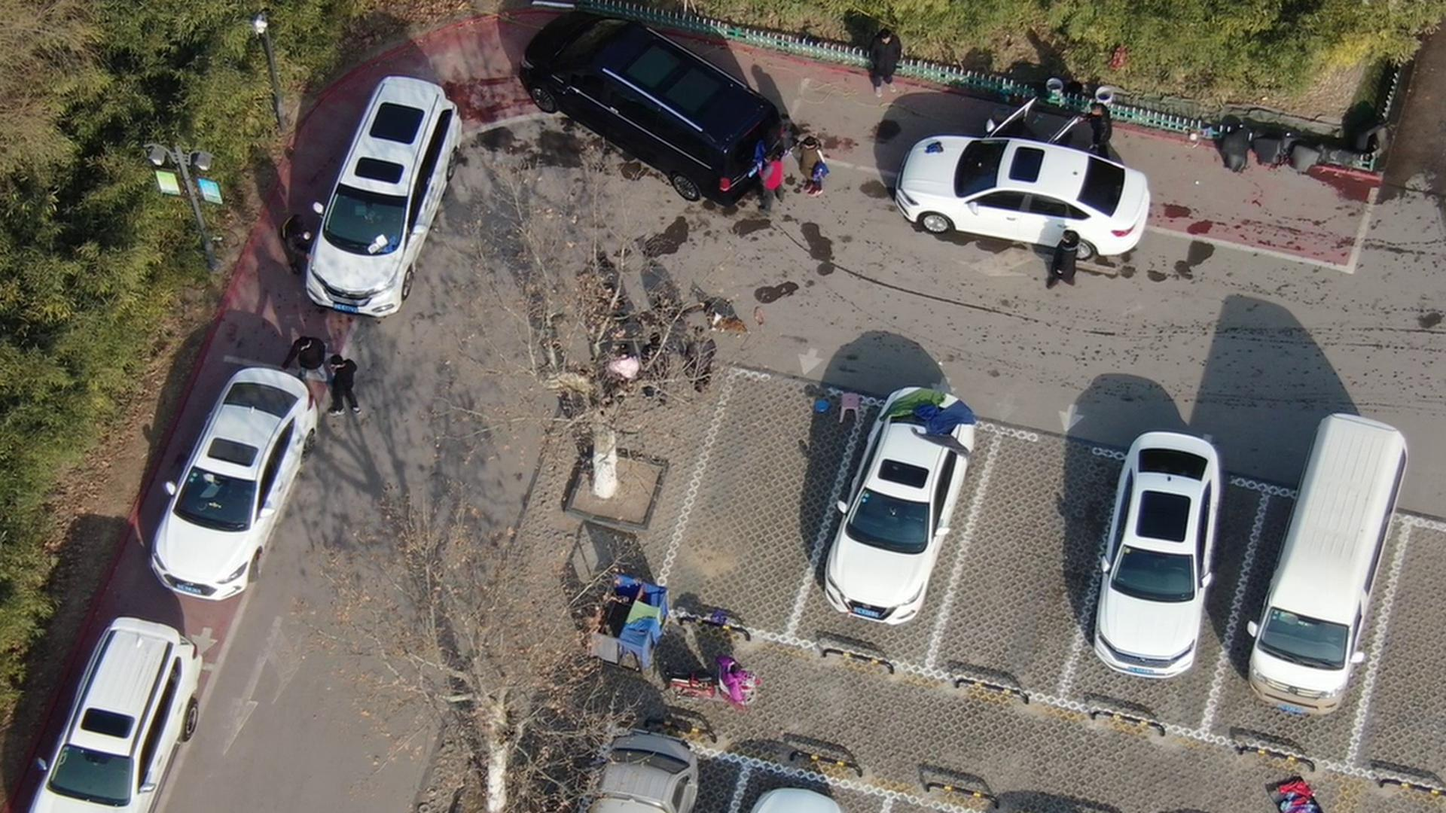human: (328, 349, 368, 423), (682, 323, 720, 399), (280, 333, 335, 385), (792, 129, 834, 196), (641, 329, 676, 406), (878, 20, 913, 94), (1049, 229, 1088, 290), (1081, 103, 1121, 159), (764, 139, 794, 212), (287, 214, 322, 274)
